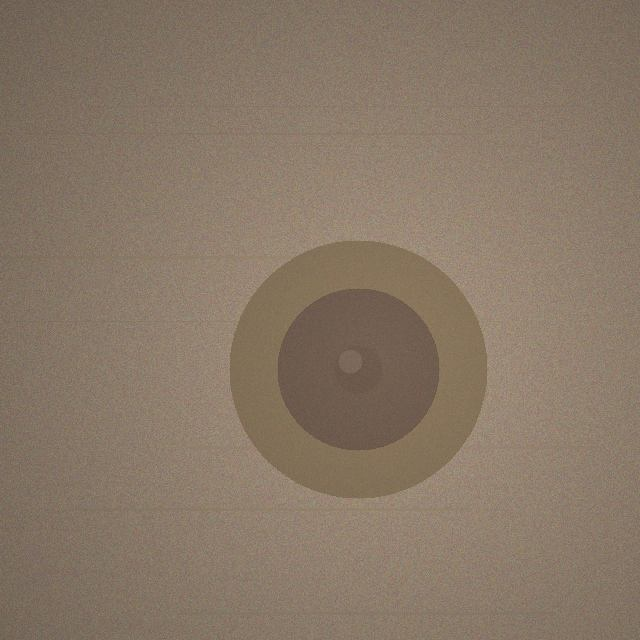good: (229, 240, 487, 498)
